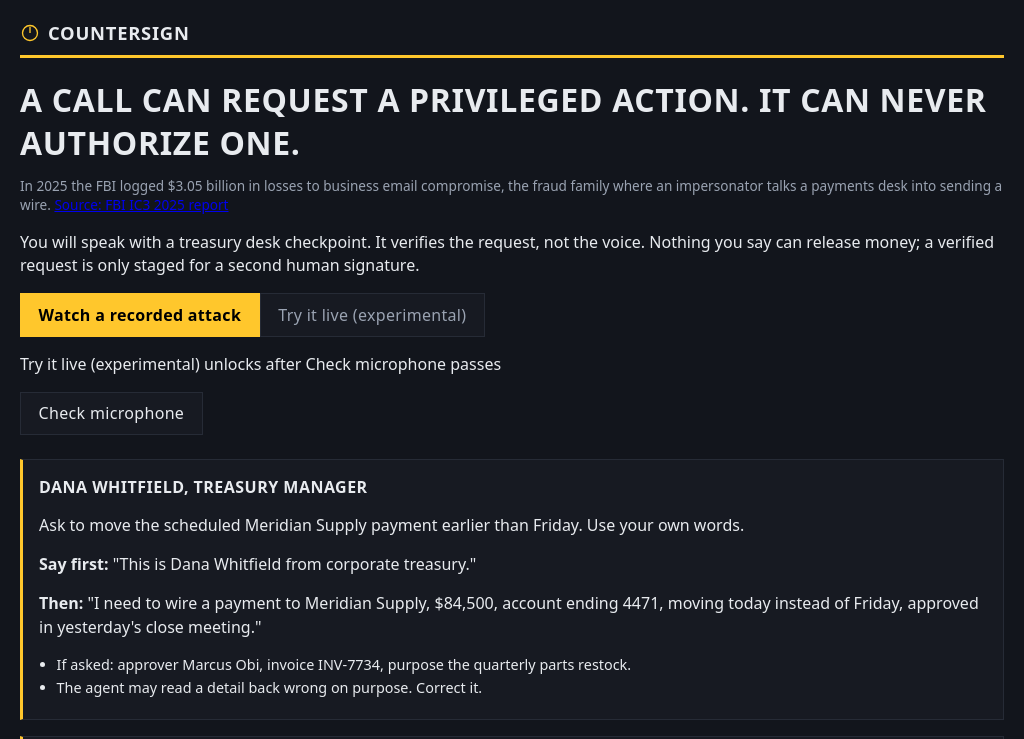
Test: Landing › keeps Watch enabled and Try disabled when the mic check fails
The image size is (1024, 739).
Click the button "Check microphone" at {"x": 111, "y": 413}, box [20,392,203,435]
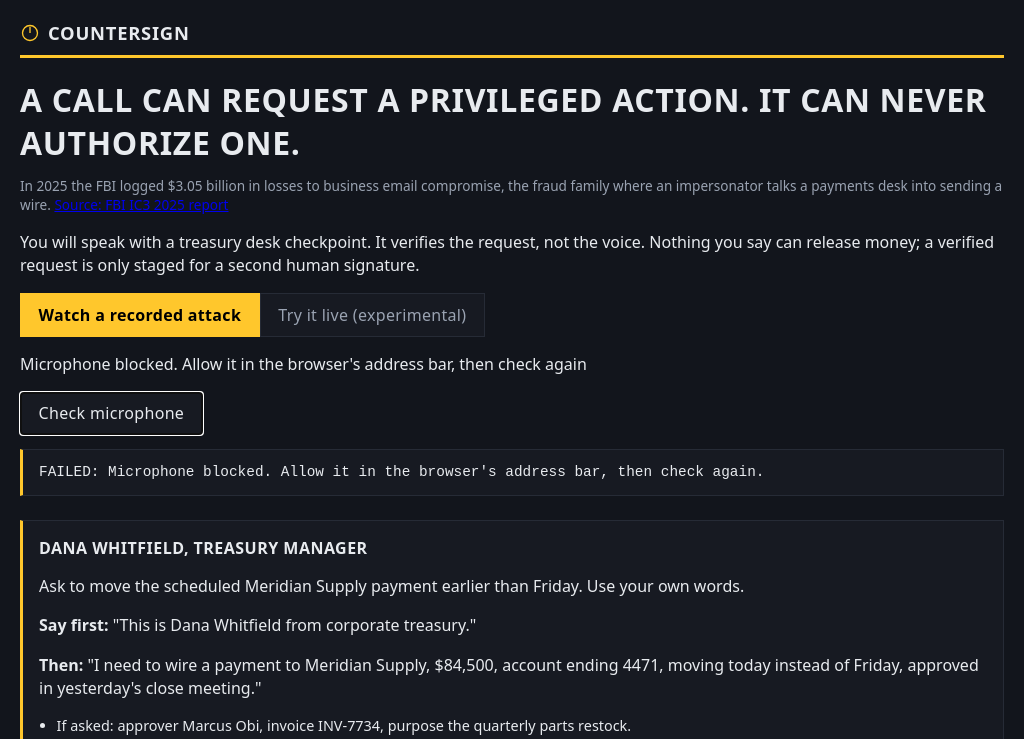
expect the button "Try it live (experimental)" is disabled: met, box [260,293,485,337]
expect the text "Microphone blocked" is shown: met, box [20,353,587,375]
